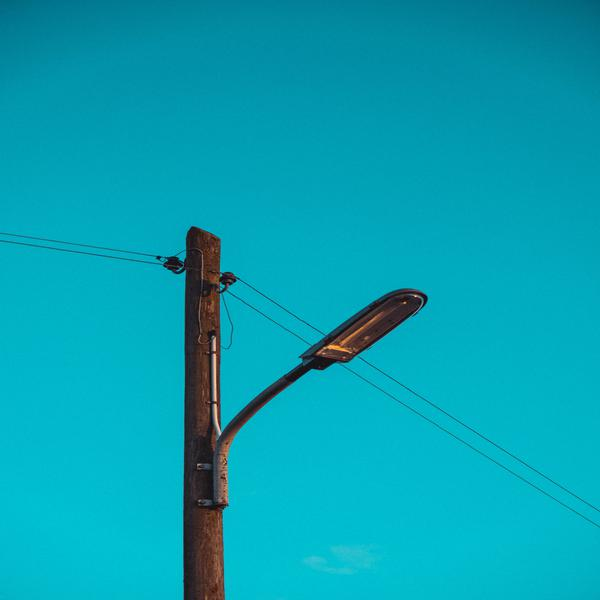utility_pole: (150, 210, 435, 538)
